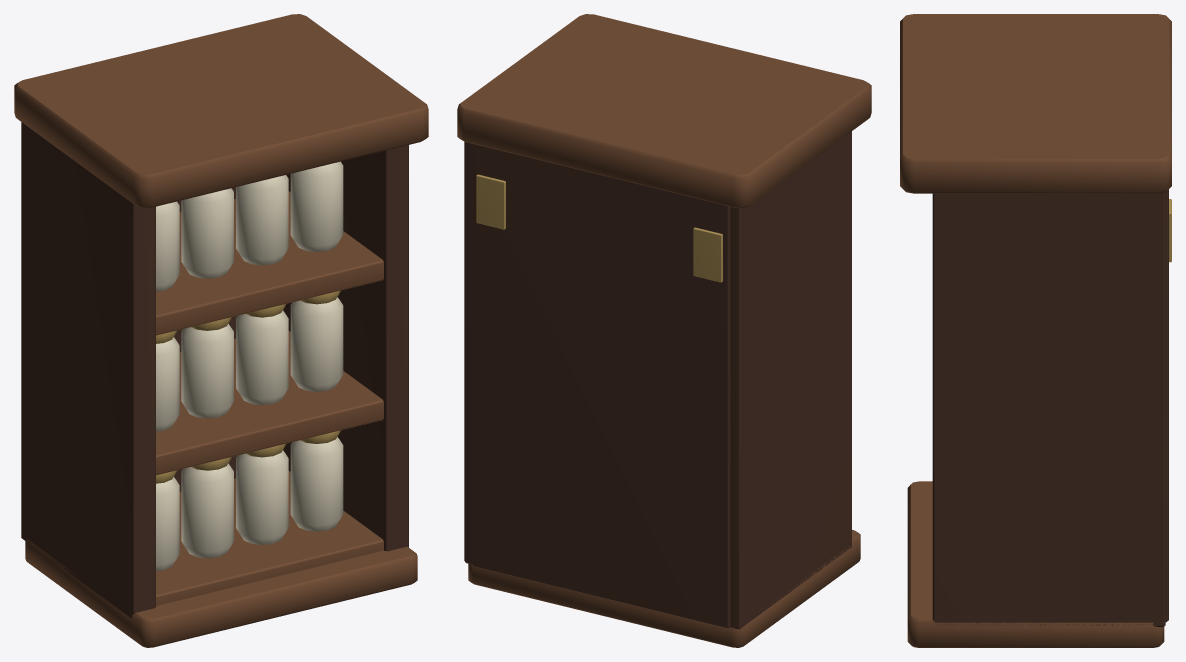
Rendered from rpg-mansion-kitchen-spice-wall-450-01.glb.
The picture shows the model from 3 angles, left to right: view 1: azimuth 30°, elevation 25°; view 2: azimuth 150°, elevation 25°; view 3: azimuth 270°, elevation 25°; orthographic projection. The views are drawn at different scales.
Visible parts, largest first — view 1: rpg-mansion-kitchen-spice-wall-450-01; view 2: rpg-mansion-kitchen-spice-wall-450-01; view 3: rpg-mansion-kitchen-spice-wall-450-01.
Part boxes in pixels (x1=…): rpg-mansion-kitchen-spice-wall-450-01: x1=14, y1=14, x2=428, y2=647; rpg-mansion-kitchen-spice-wall-450-01: x1=457, y1=14, x2=871, y2=647; rpg-mansion-kitchen-spice-wall-450-01: x1=900, y1=14, x2=1171, y2=647.
Bounding box in the file's own units: 0.45 × 0.7 × 0.35.
